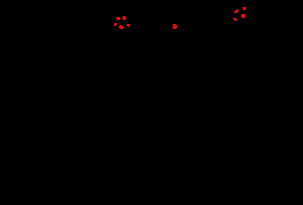Target: (234, 9, 239, 13), (173, 24, 177, 29), (119, 25, 124, 29), (241, 14, 245, 18), (122, 16, 126, 20), (116, 17, 120, 20), (233, 18, 237, 21), (243, 7, 246, 10), (114, 23, 117, 26), (127, 24, 130, 27)
